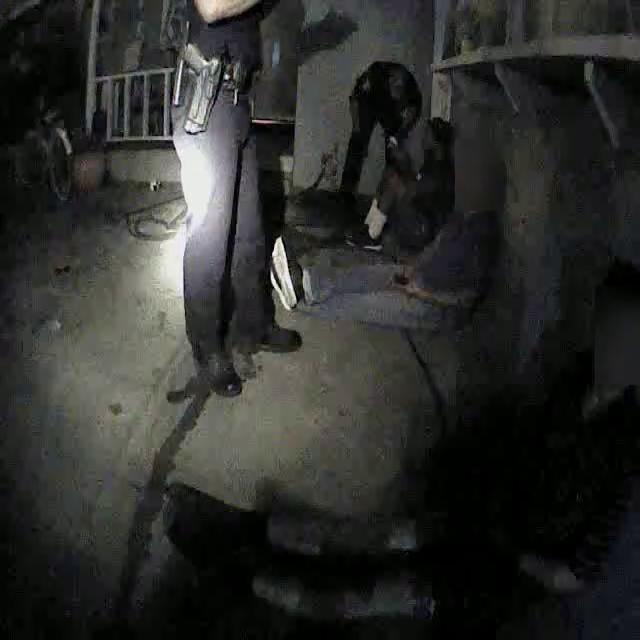gun: (168, 28, 239, 150)
